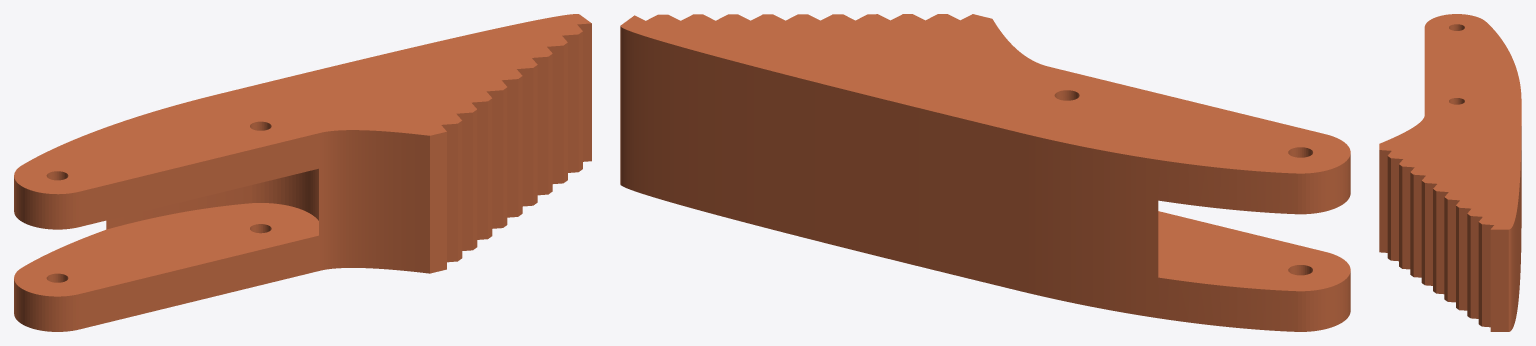
The model's file is gripperTip.dae.
3 views of the same model, side by side, from view 1: azimuth 30°, elevation 25°; view 2: azimuth 150°, elevation 25°; view 3: azimuth 270°, elevation 25° (orthographic). The views are drawn at different scales.
Visible parts, largest first — view 1: gripperTip; view 2: gripperTip; view 3: gripperTip.
Part boxes in pixels (x1,y1,x2,y2): gripperTip: (14,14,591,331); gripperTip: (620,14,1350,331); gripperTip: (1379,14,1521,331).
Bounding box in the file's own units: 0.079 × 0.022 × 0.0175.
